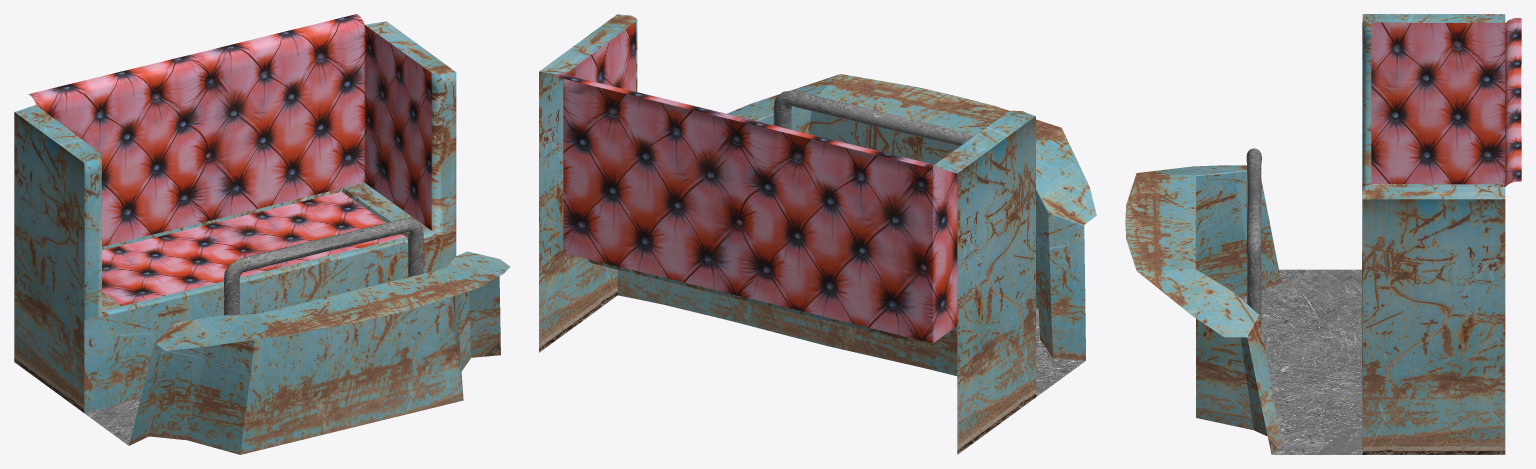
Rendered from kart-low.obj.
3 views of the same model, side by side, from view 1: azimuth 30°, elevation 25°; view 2: azimuth 150°, elevation 25°; view 3: azimuth 270°, elevation 25° (orthographic). The views are drawn at different scales.
Visible parts, largest first — view 1: kart_Cube.003; view 2: kart_Cube.003; view 3: kart_Cube.003.
Boxes of the visible parts, bbox=[...] form: kart_Cube.003: bbox=[14, 14, 510, 454]; kart_Cube.003: bbox=[539, 14, 1096, 454]; kart_Cube.003: bbox=[1125, 14, 1521, 454].
Size of the model in its own units: 2.11 by 1.42 by 1.9.
Materials: 1 (1 with a texture image).
